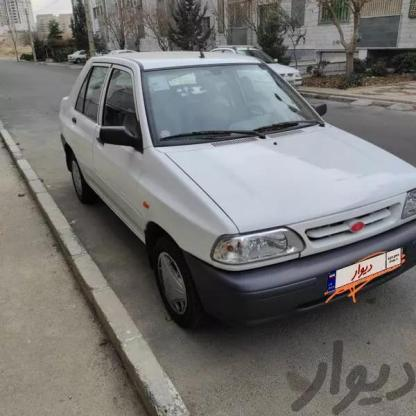Car: (55, 47, 416, 332), (195, 33, 299, 96), (57, 42, 118, 67)
